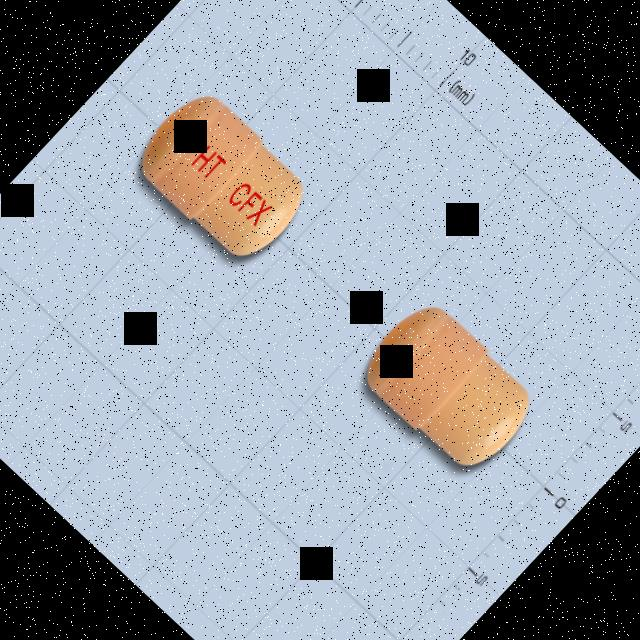Cefaxime Cap: (113, 72, 328, 286)
